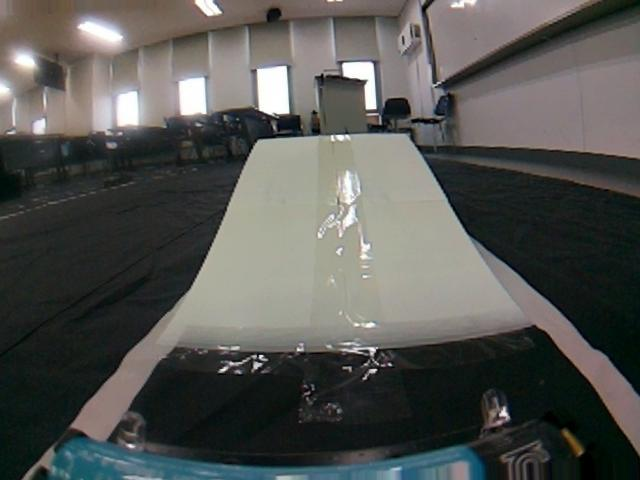hill_up: (68, 132, 640, 443)
